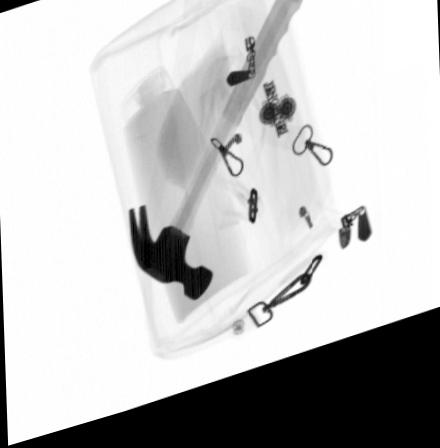Hammer: (128, 0, 318, 312)
